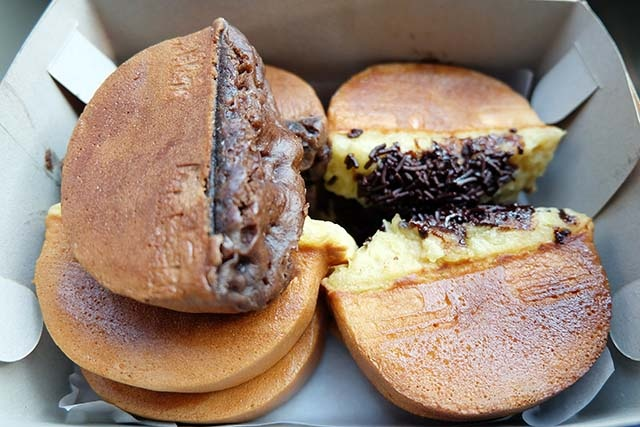pukis: (34, 14, 314, 304), (339, 175, 621, 418), (324, 53, 583, 210)
